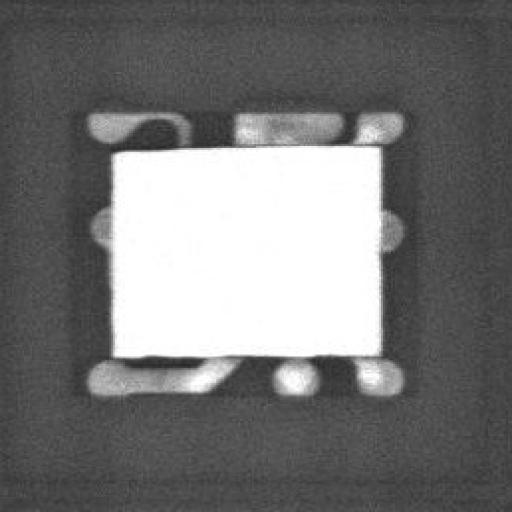DIE_BROKEN: (111, 142, 272, 156)
